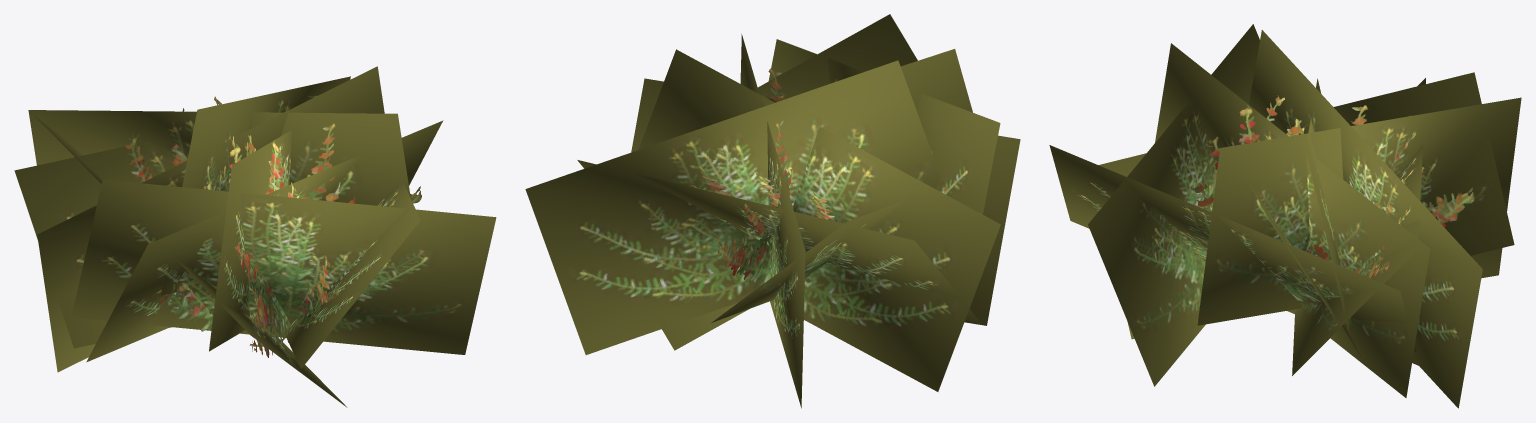
File: shrb_arid_green_flowering_l0.fbx
The picture shows the model from 3 angles, left to right: view 1: azimuth 30°, elevation 25°; view 2: azimuth 150°, elevation 25°; view 3: azimuth 270°, elevation 25°; orthographic projection.
Parts seen in each view (by area): view 1: mesh_node; view 2: mesh_node; view 3: mesh_node.
Boxes of the visible parts, x1,y1,x2,y2 form: mesh_node: (14,66,496,407); mesh_node: (525,14,1020,408); mesh_node: (1049,24,1521,408).
Bounding box in the file's own units: 2.83 × 1.86 × 2.89.
